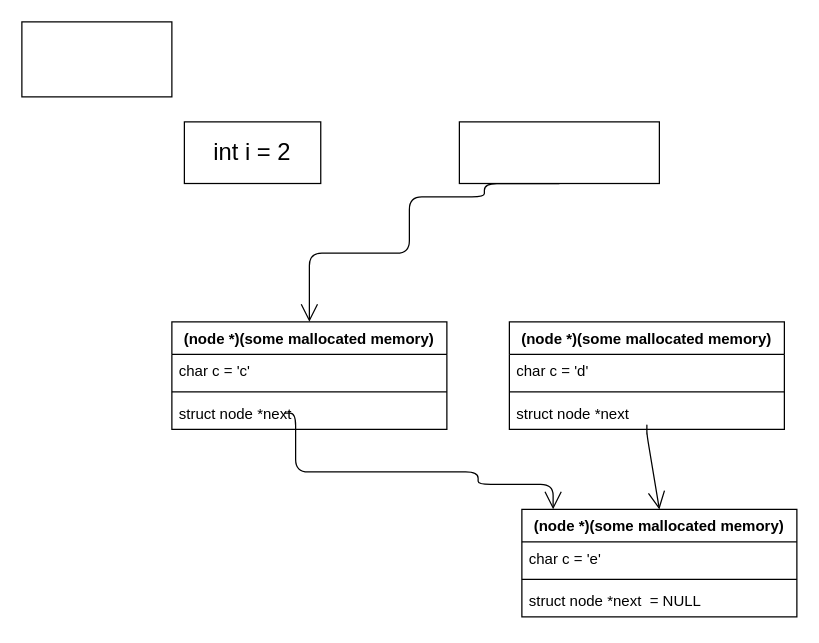
This 819x643 diagram has some shape labels left out. Here are the shapes that lost their labels. From the top down, the box of each, then its label:
(21, 21, 172, 97): Q6
(458, 121, 659, 184): list p (node *p)
